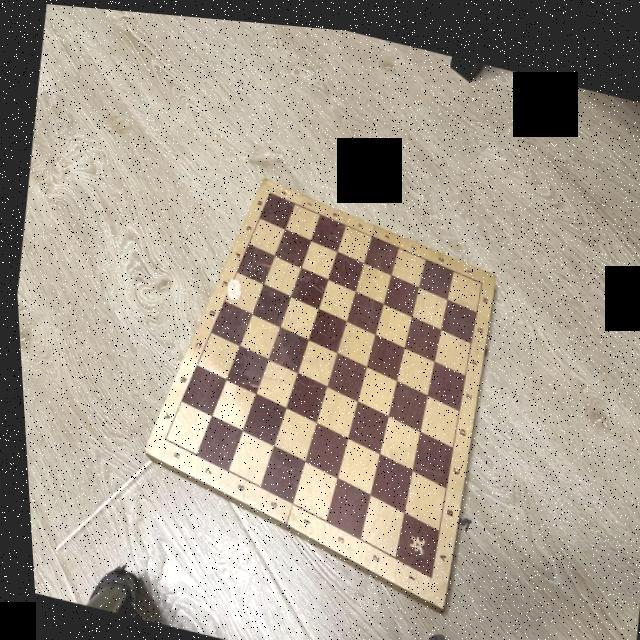chess-table-corners: (419, 565, 428, 575), (156, 432, 164, 442), (476, 270, 480, 278), (266, 185, 271, 191)
